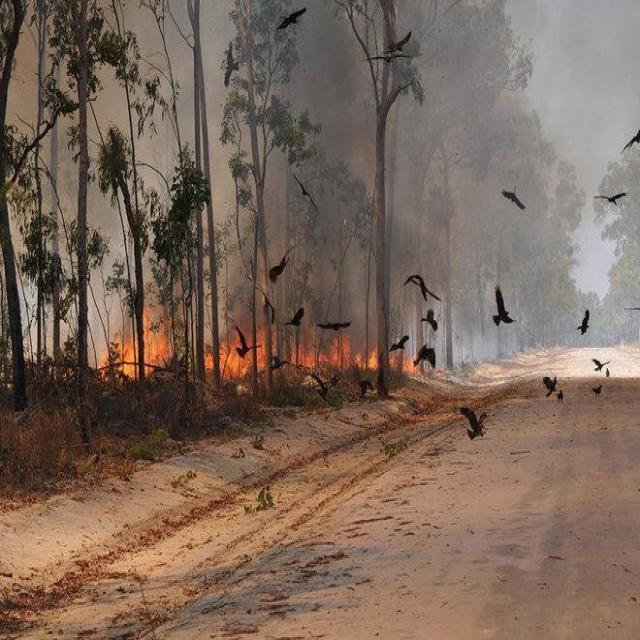Fire: (98, 308, 173, 383), (290, 330, 378, 374), (202, 322, 266, 378), (388, 342, 420, 375)
Smoke: (1, 1, 640, 368)
